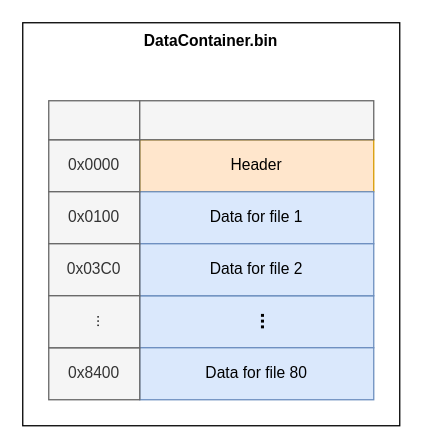
This 422x448 diagram has some shape labels left out. The centre of each missing label's shape, as x and y in pixels:
"Content" goes at point 256,119.
"Offset" goes at point 93,119.
